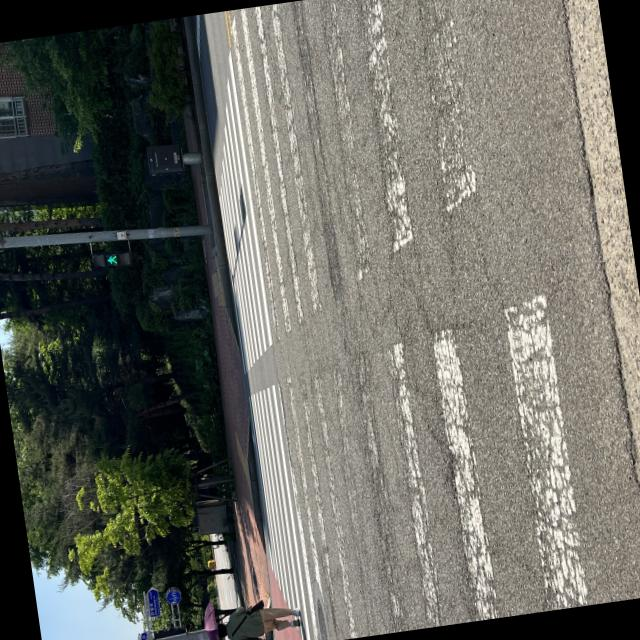green_light: (86, 240, 138, 278)
zebra: (185, 0, 640, 640)
